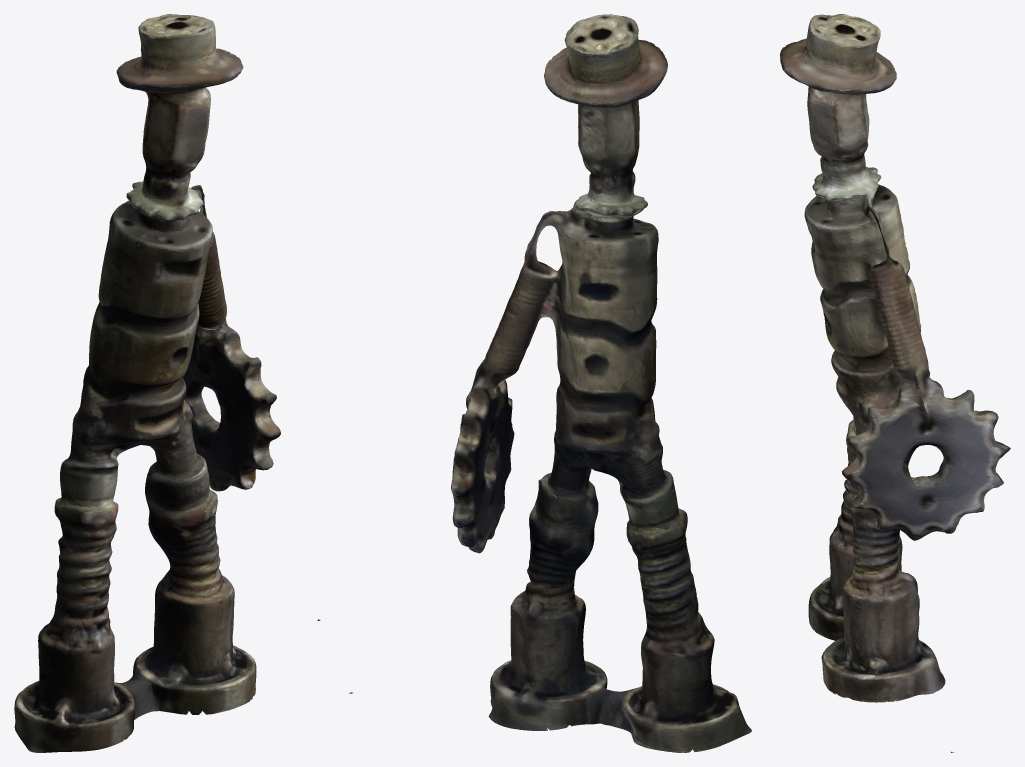
The model's file is señorRobot.glb.
3 views of the same model, side by side, from view 1: azimuth 30°, elevation 25°; view 2: azimuth 150°, elevation 25°; view 3: azimuth 270°, elevation 25° (orthographic). The views are drawn at different scales.
Bounding box in the file's own units: 0.134 × 0.2521 × 0.0826.
1 material, 1 textured.
